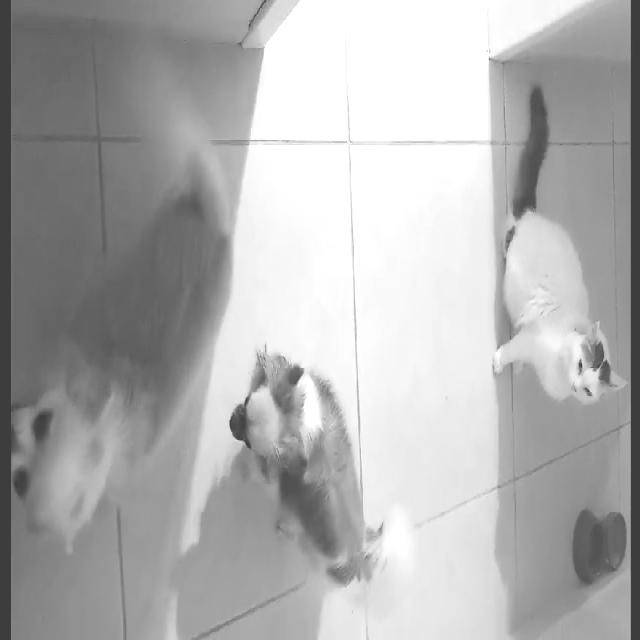Pedrita: (240, 311, 396, 638)
Simba: (498, 157, 620, 481)
Theo: (0, 96, 278, 628)
